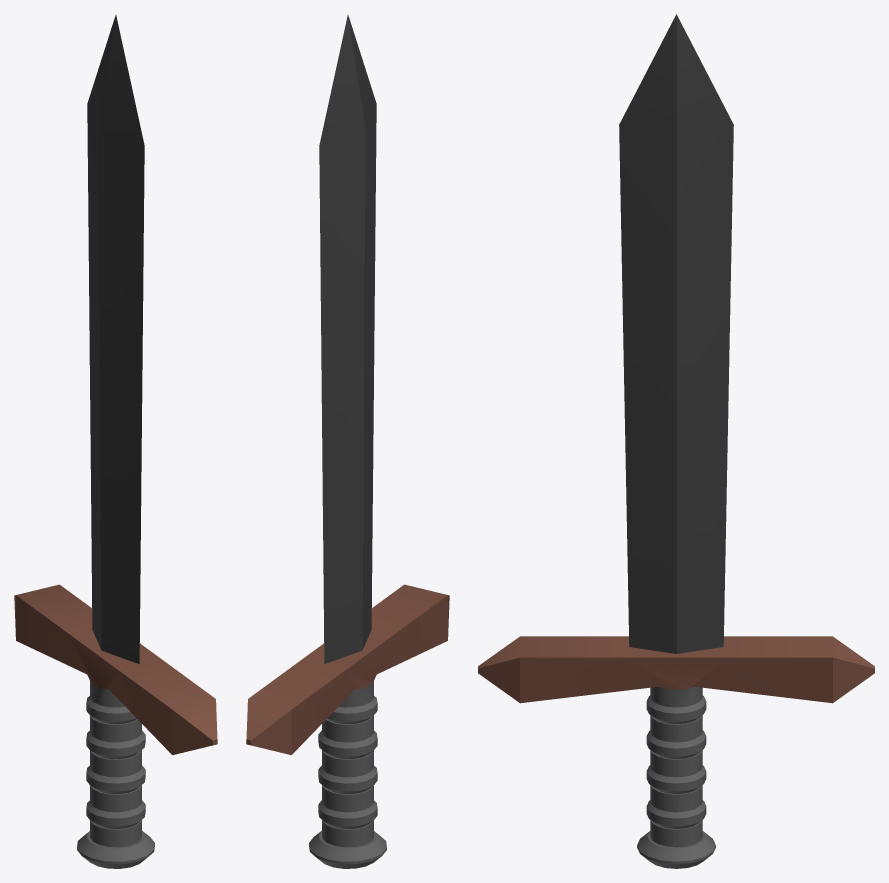
File: sward #2.fbx
The picture shows the model from 3 angles, left to right: view 1: azimuth 30°, elevation 25°; view 2: azimuth 150°, elevation 25°; view 3: azimuth 270°, elevation 25°; orthographic projection.
Parts seen in each view (by area): view 1: Cube; view 2: Cube; view 3: Cube.
Boxes of the visible parts, <box> form: Cube: <box>14,15,217,868</box>; Cube: <box>246,15,449,868</box>; Cube: <box>478,14,874,868</box>.
Size of the model in its own units: 72.13 by 850 by 363.
